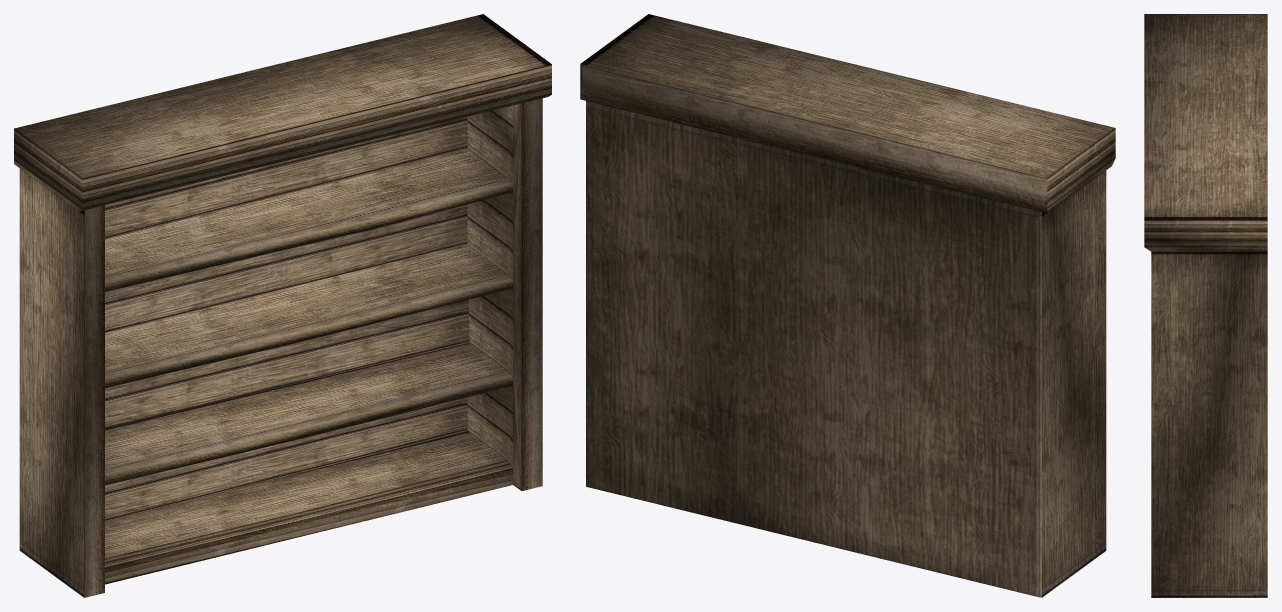
File: GS_SINGLE_OPEN_STORAGE_YELLOW_01_KOZA.glb
3 renders of one model, left to right at view 1: azimuth 30°, elevation 25°; view 2: azimuth 150°, elevation 25°; view 3: azimuth 270°, elevation 25°, orthographic. The views are drawn at different scales.
Visible parts, largest first — view 1: Mesh; view 2: Mesh; view 3: Mesh.
Boxes of the visible parts, x1,y1,x2,y2 form: Mesh: (14, 14, 551, 597); Mesh: (580, 14, 1115, 597); Mesh: (1144, 14, 1267, 597).
Size of the model in its own units: 3.15 by 2.72 by 0.7984.
Materials: 2 (2 with a texture image).
